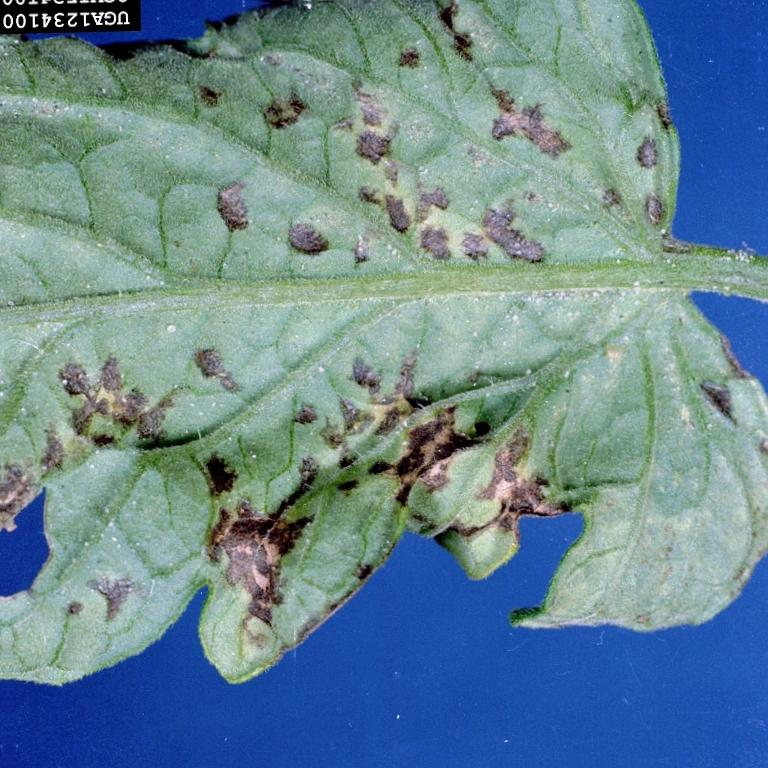Tomato leaf bacterial spot: (0, 1, 767, 673)
